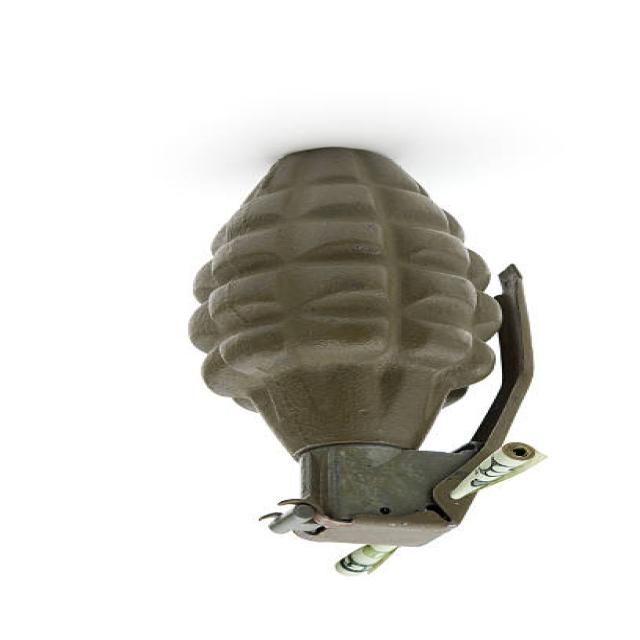grenade: (181, 142, 542, 558)
